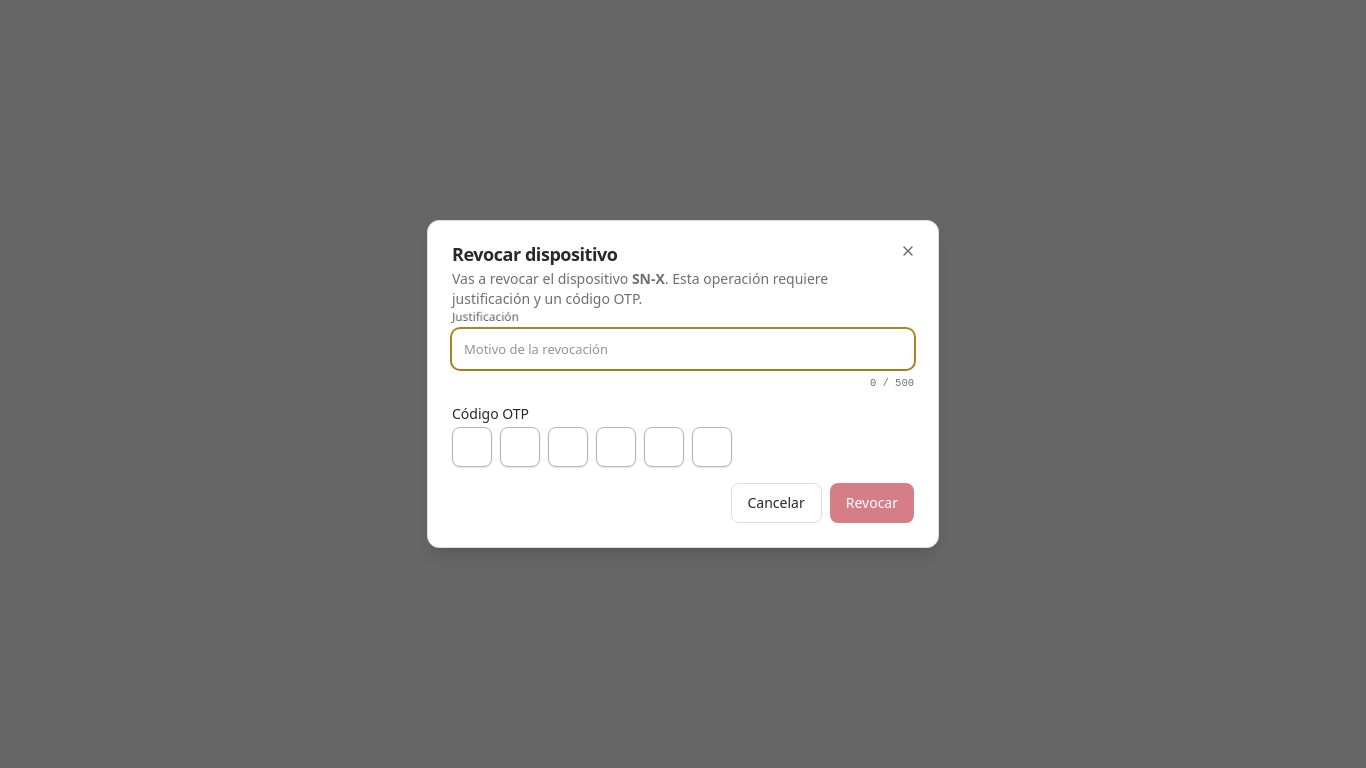
it: DispositivosRevokeDialog › disables submit until reason >= 3 chars and OTP has 6 digits
Check: the button with test id "revoke-submit" is disabled, box x1=830 y1=483 x2=914 y2=523
In the field with test id "revoke-reason": (683, 349) x1=452 y1=329 x2=914 y2=369, type "stolen"
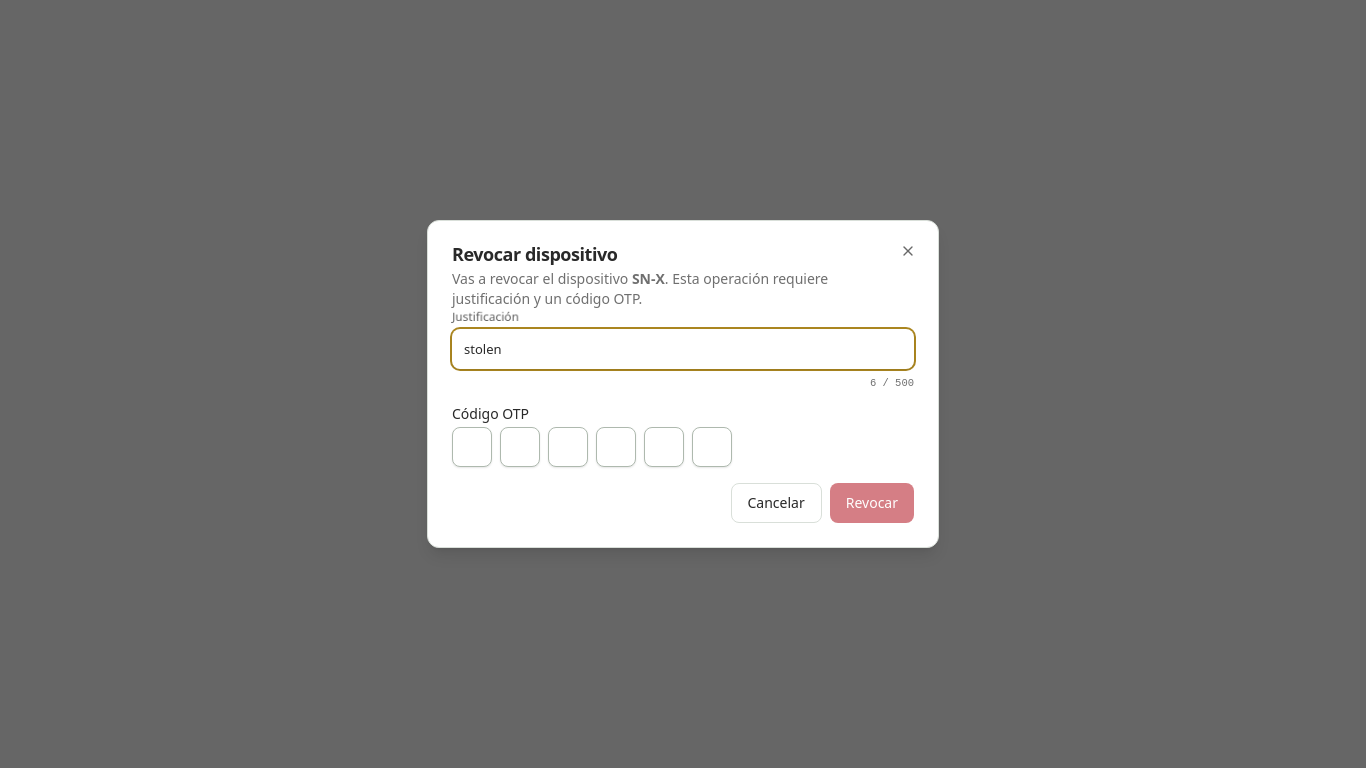
Check: the button with test id "revoke-submit" is disabled, box x1=830 y1=483 x2=914 y2=523
In the field named "Digit": (472, 447) x1=452 y1=427 x2=492 y2=467, type "1"
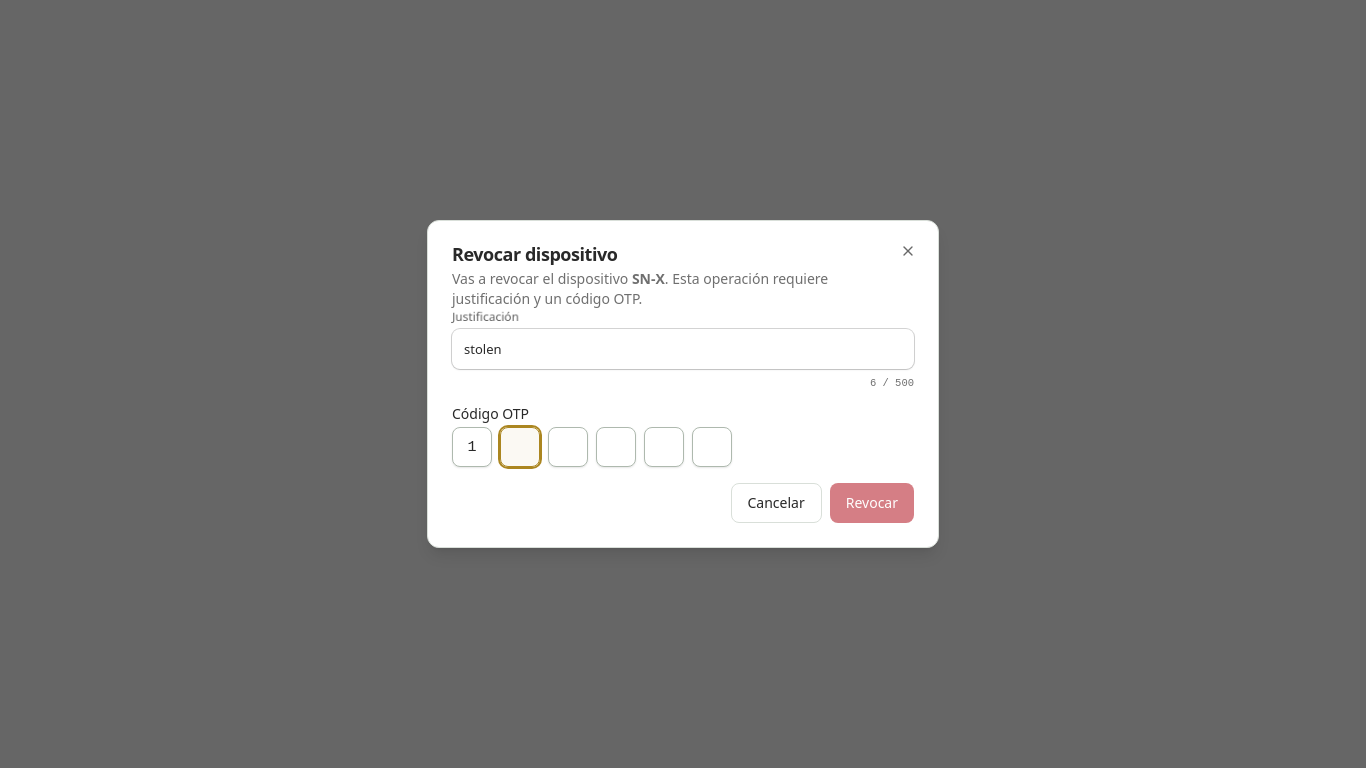
In the field named "Digit": (520, 447) x1=500 y1=427 x2=540 y2=467, type "1"
In the field named "Digit": (568, 447) x1=548 y1=427 x2=588 y2=467, type "1"
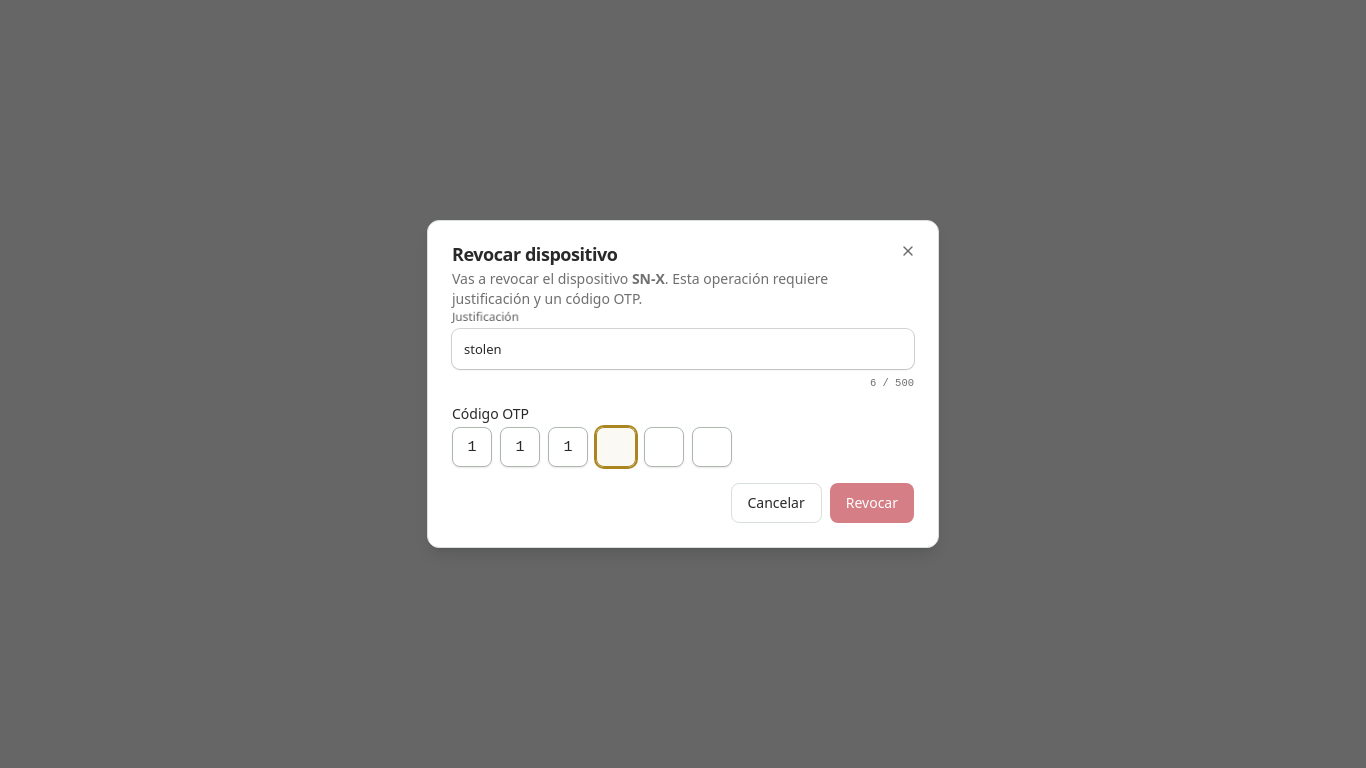
In the field named "Digit": (616, 447) x1=596 y1=427 x2=636 y2=467, type "1"
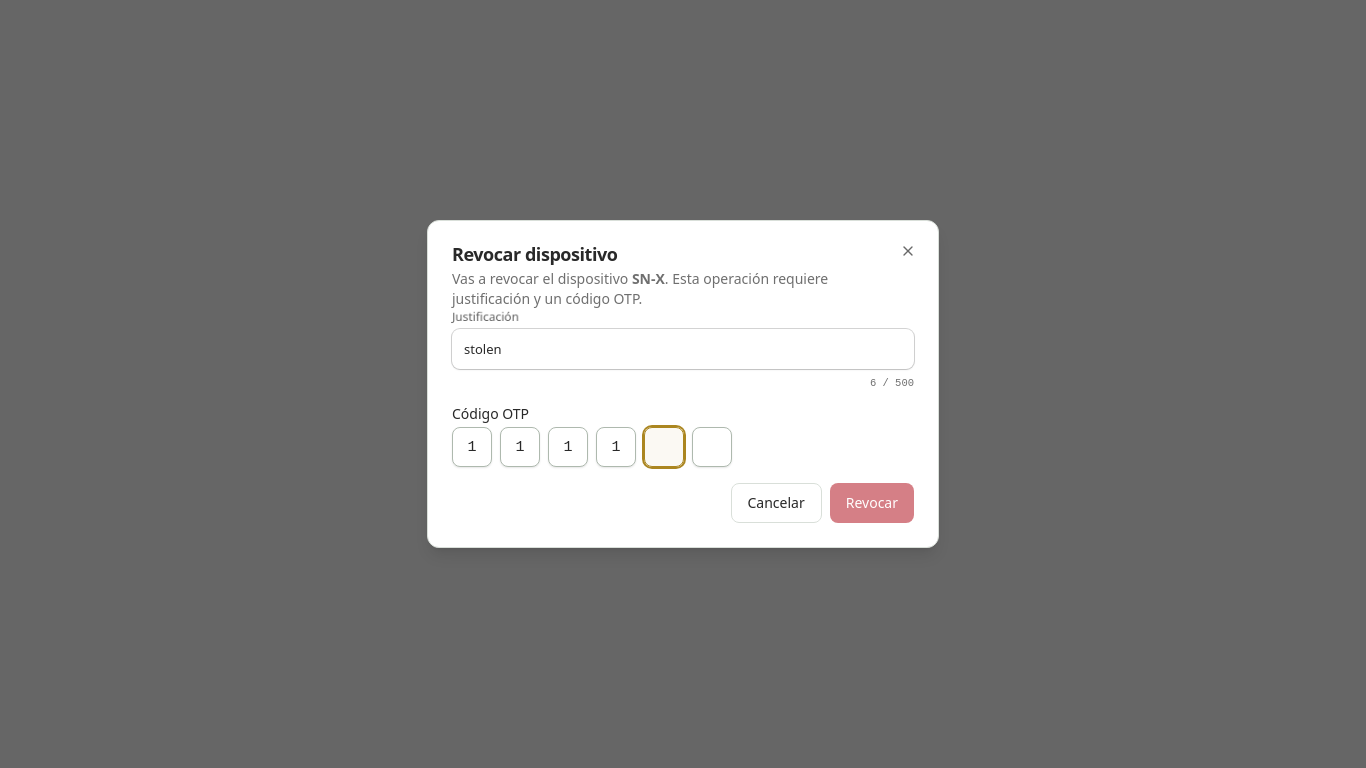
In the field named "Digit": (664, 447) x1=644 y1=427 x2=684 y2=467, type "1"
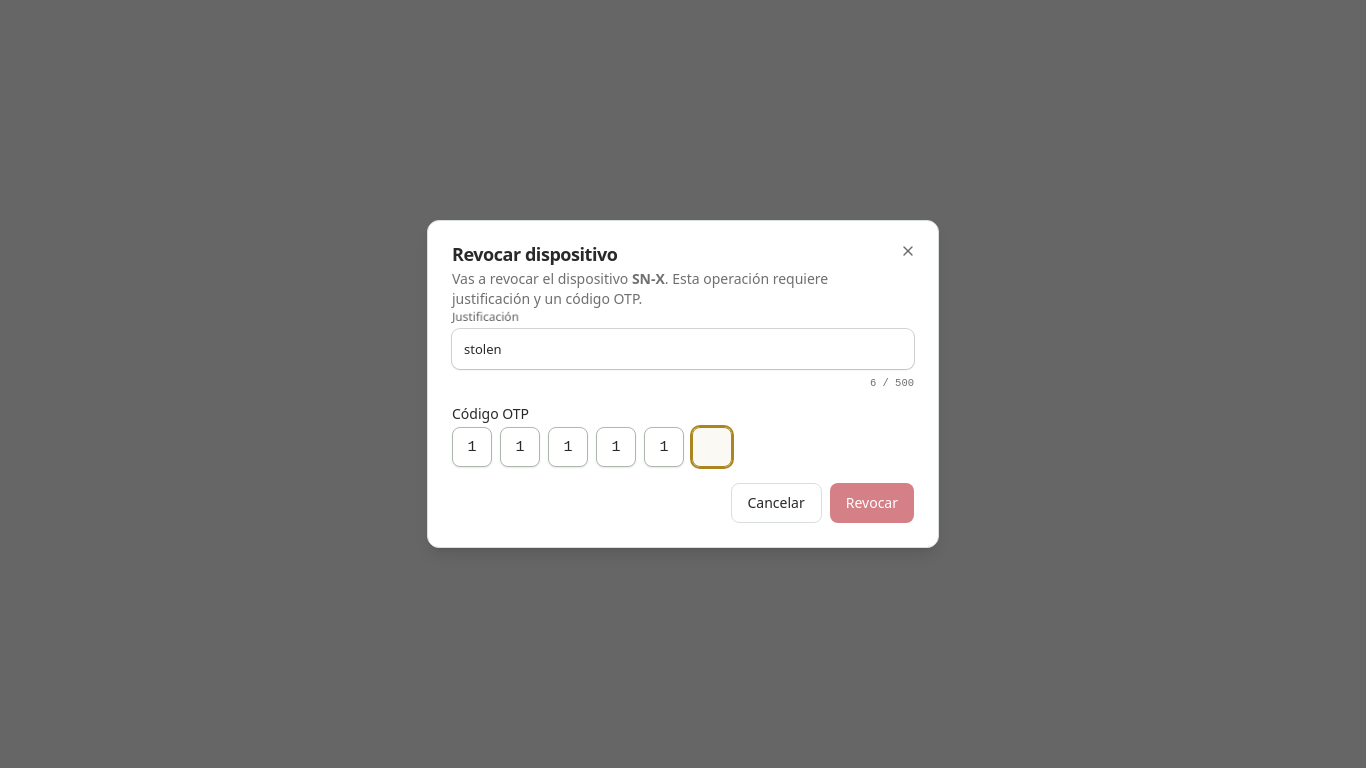
In the field named "Digit": (712, 447) x1=692 y1=427 x2=732 y2=467, type "1"
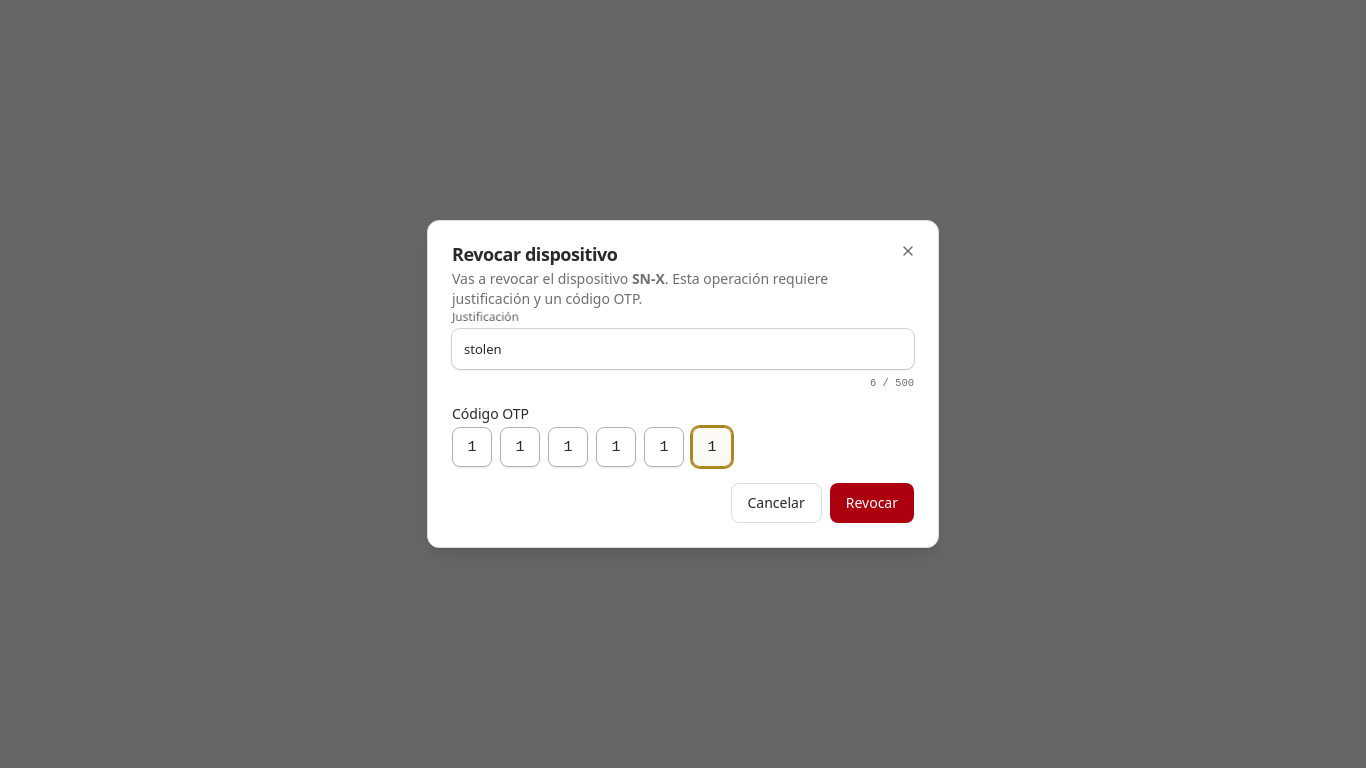
Check: the button with test id "revoke-submit" is enabled, box x1=830 y1=483 x2=914 y2=523
